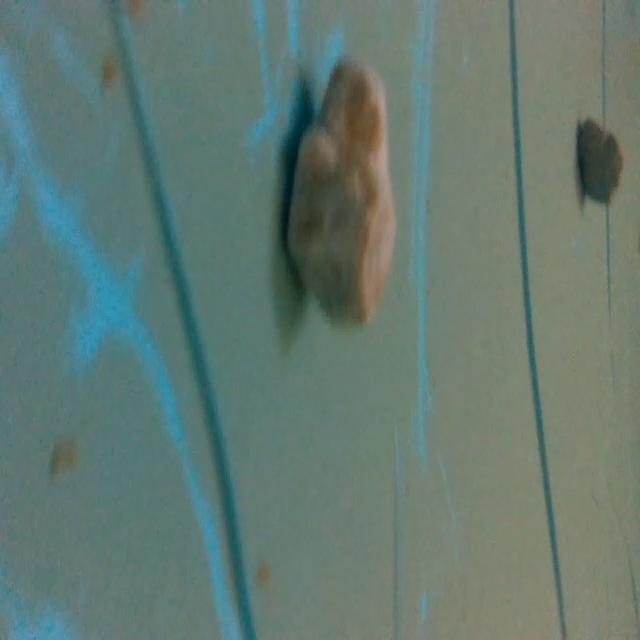rock: (285, 56, 405, 330), (574, 111, 626, 208)
